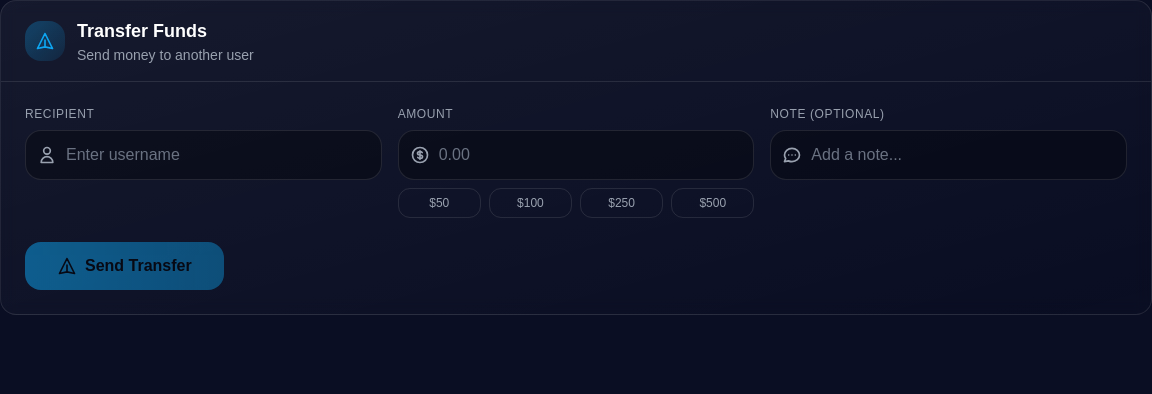
TransferFunds › shows generic error message on network failure
The width and height of the screenshot is (1152, 394).
In the field with placeholder "Enter username": (203, 155) [25, 130, 382, 180], type "bob"
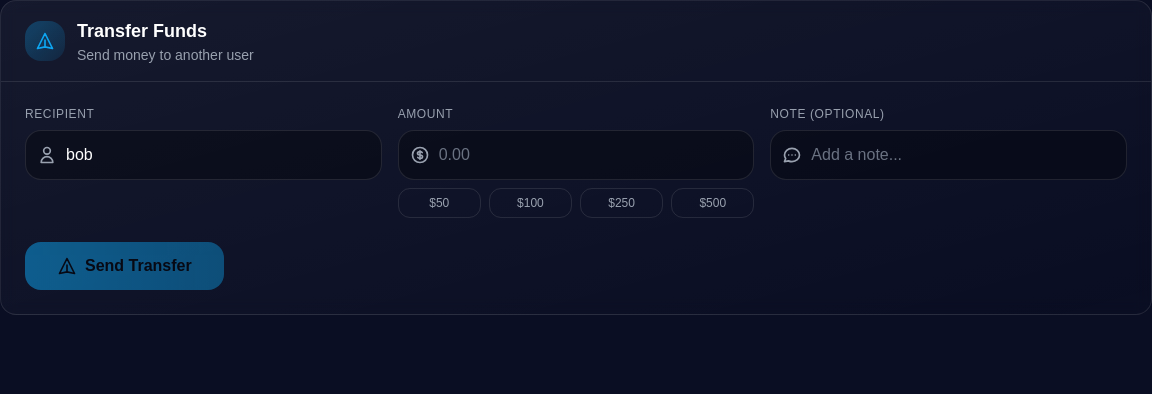
In the number field with placeholder "0.00": (576, 155) [398, 130, 754, 180], type "50"
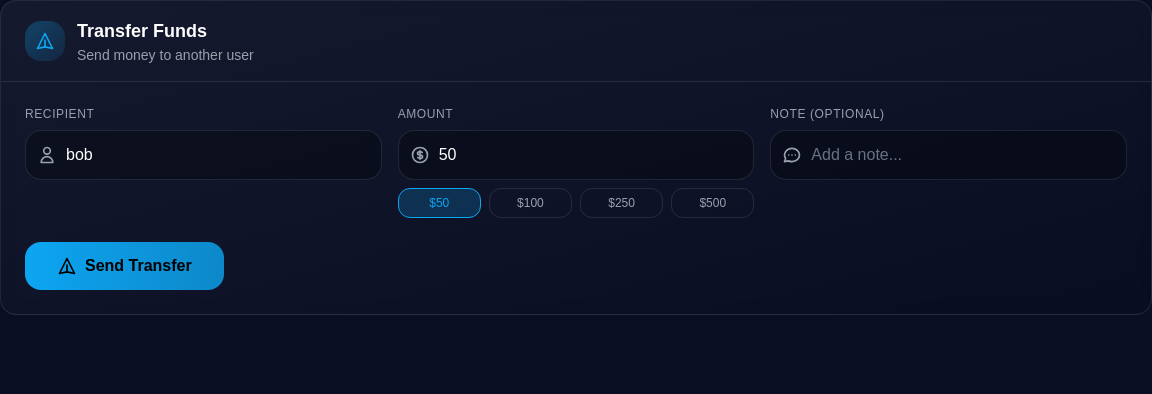
Click the button "Send Transfer": (124, 266) [25, 242, 224, 290]
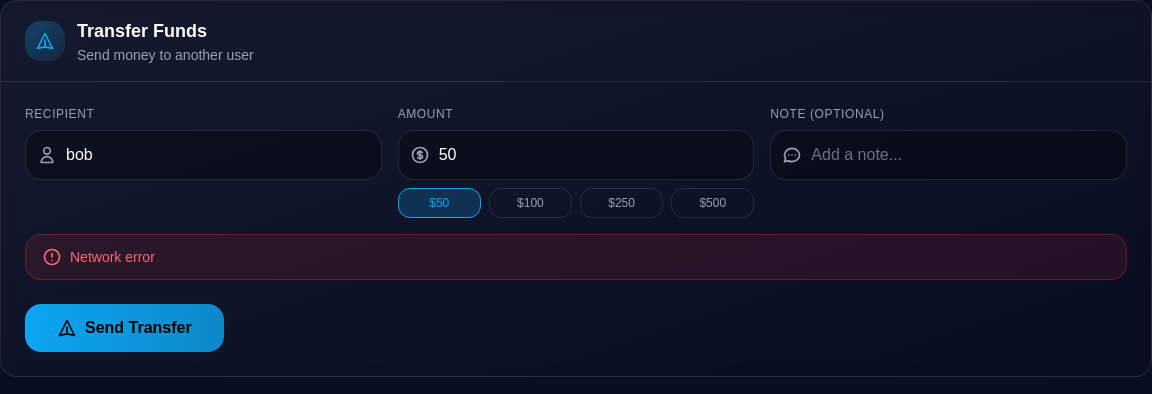
Now the text "Network error" is shown, box [70, 247, 155, 267]
